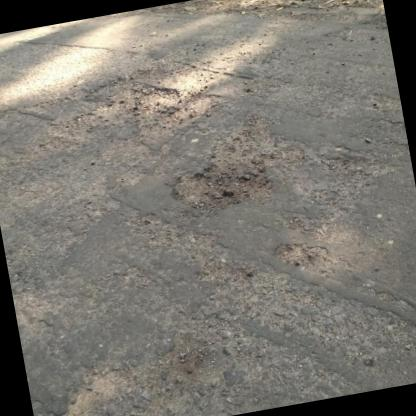pothole: (166, 152, 278, 222), (126, 76, 218, 140), (270, 233, 331, 274)
